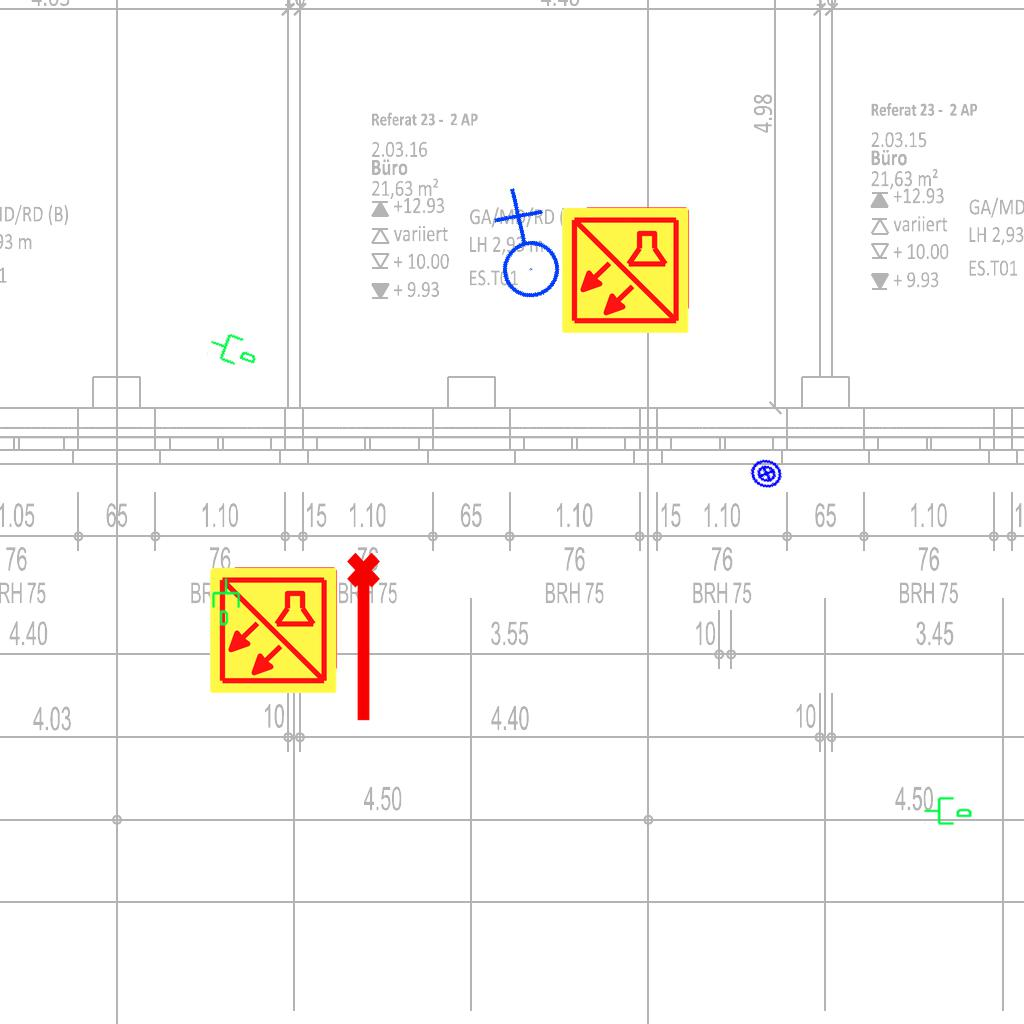ASR_Ansaugoeffnung: (343, 550, 389, 726)
Datenanschluss_einfach: (204, 324, 264, 374), (923, 793, 973, 827), (210, 577, 244, 627)
Elektroanschluss_allgemein_230V_Geraeteanschlussdose_230V: (456, 183, 589, 317)
OKW_Multisensormelder_(Kombination_optischer_Rauch-Kahlenmonoxid_Waerme-Melder): (207, 564, 339, 696), (559, 204, 691, 336)
Taster_beleuchtet: (745, 452, 788, 495)
